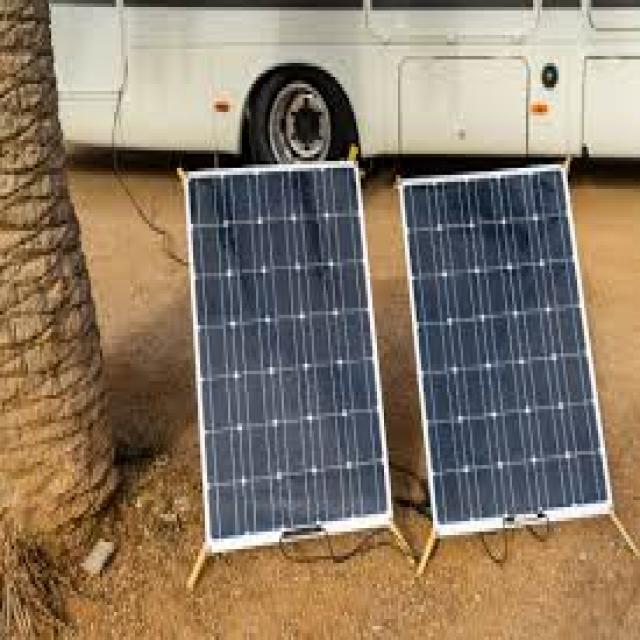no faulty: (405, 164, 612, 515), (185, 168, 378, 532)
